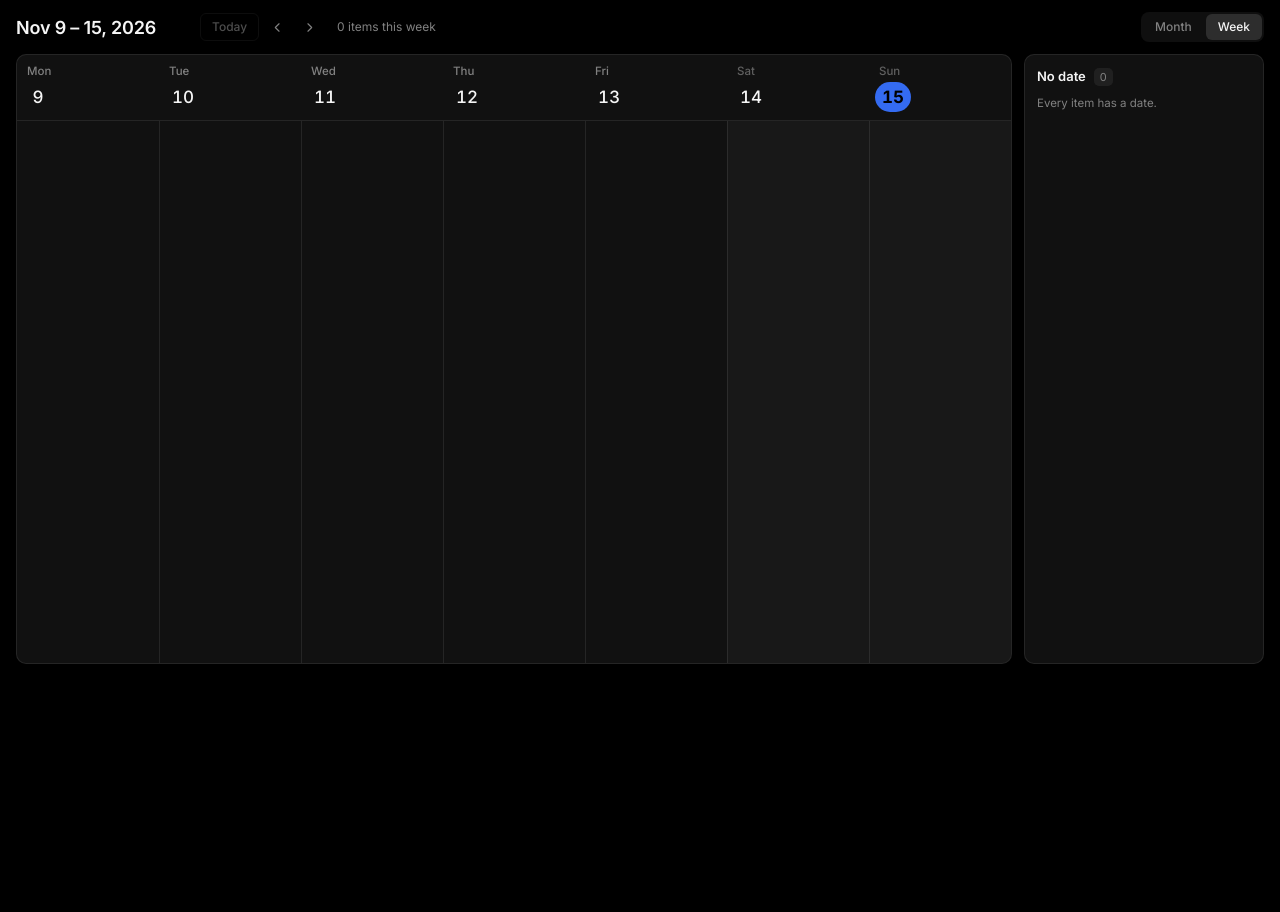
Scenario: CalendarView, week › moves a week at a time
The width and height of the screenshot is (1280, 912).
Click the button named "Next" at (309, 27), box [295,13,323,41]
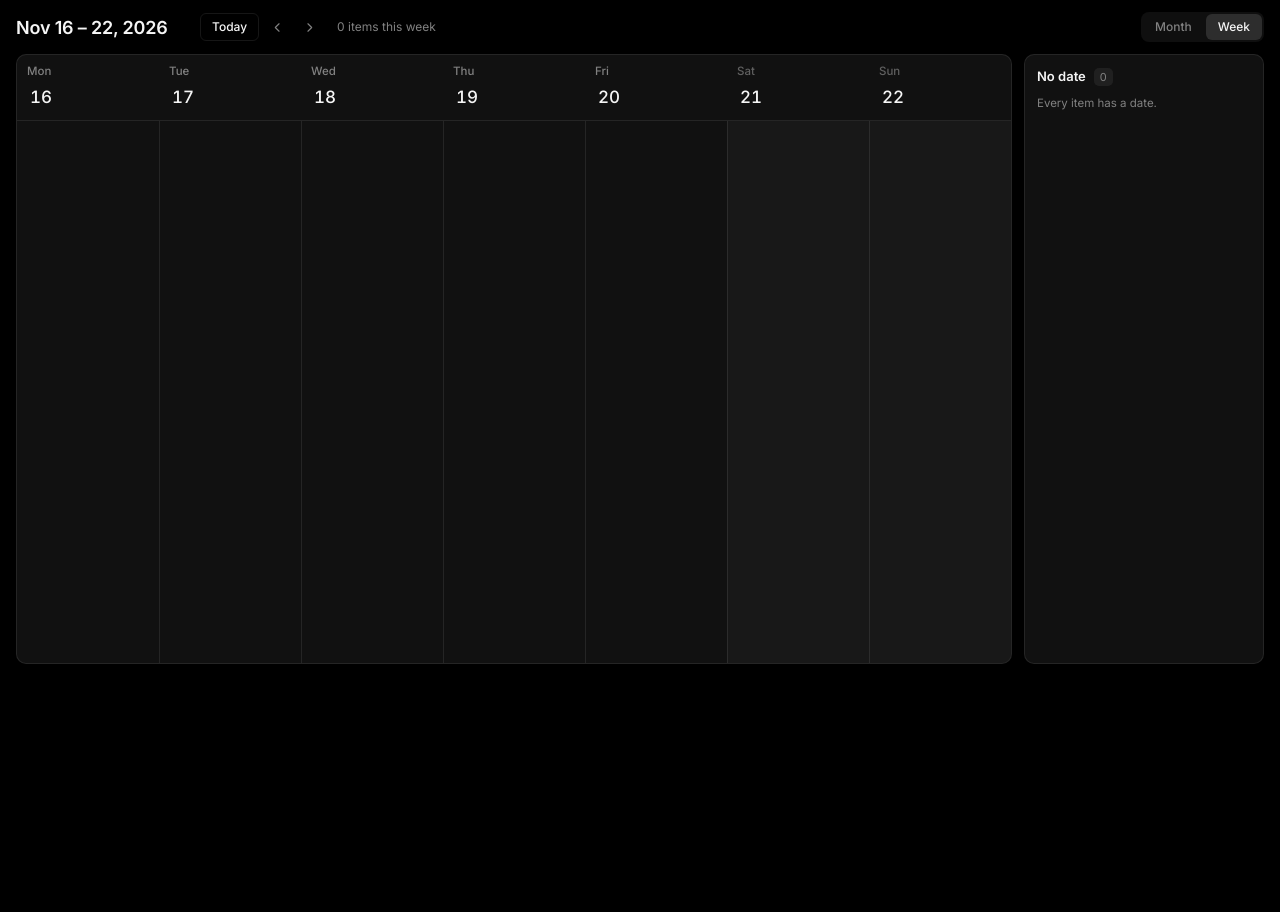
Expected: the heading "Nov 16 – 22, 2026" is shown, [16,14,186,40]
